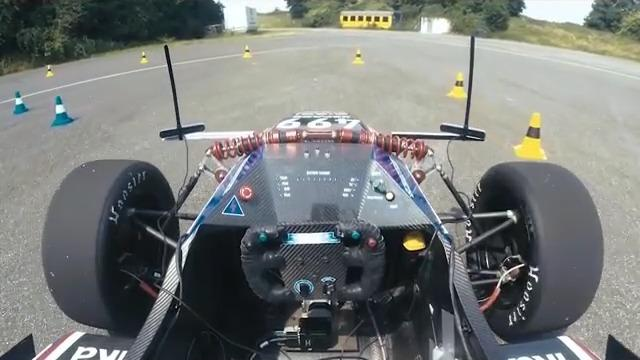blue_cone: (44, 90, 80, 128), (9, 90, 31, 117)
yellow_cone: (508, 111, 551, 164), (445, 70, 470, 102), (354, 46, 368, 67), (138, 50, 153, 66), (240, 44, 254, 56)
